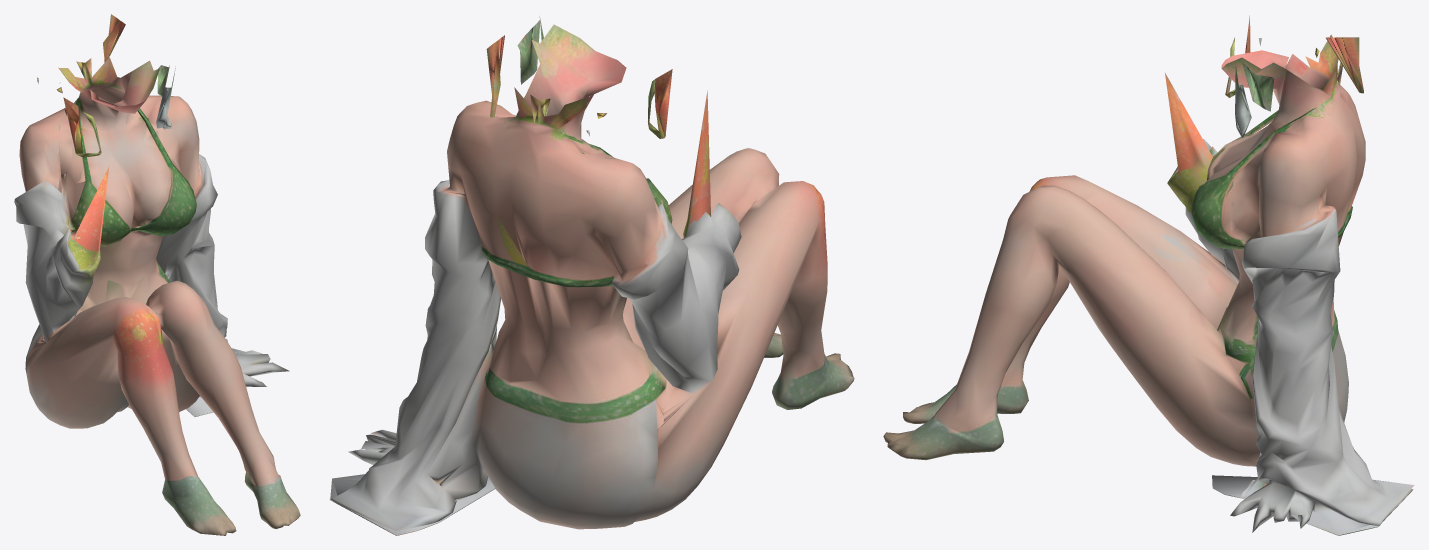
3 views of the same model, side by side, from view 1: azimuth 30°, elevation 25°; view 2: azimuth 150°, elevation 25°; view 3: azimuth 270°, elevation 25° (orthographic). The views are drawn at different scales.
Visible parts, largest first — view 1: material; view 2: material; view 3: material.
Boxes of the visible parts, x1=… form: material: x1=14, y1=14, x2=300, y2=535; material: x1=329, y1=16, x2=854, y2=535; material: x1=883, y1=15, x2=1414, y2=535.
Bounding box in the file's own units: 1.27 × 1.69 × 1.9.
1 material, 1 textured.
